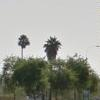Palm tree: (15, 28, 71, 70)
